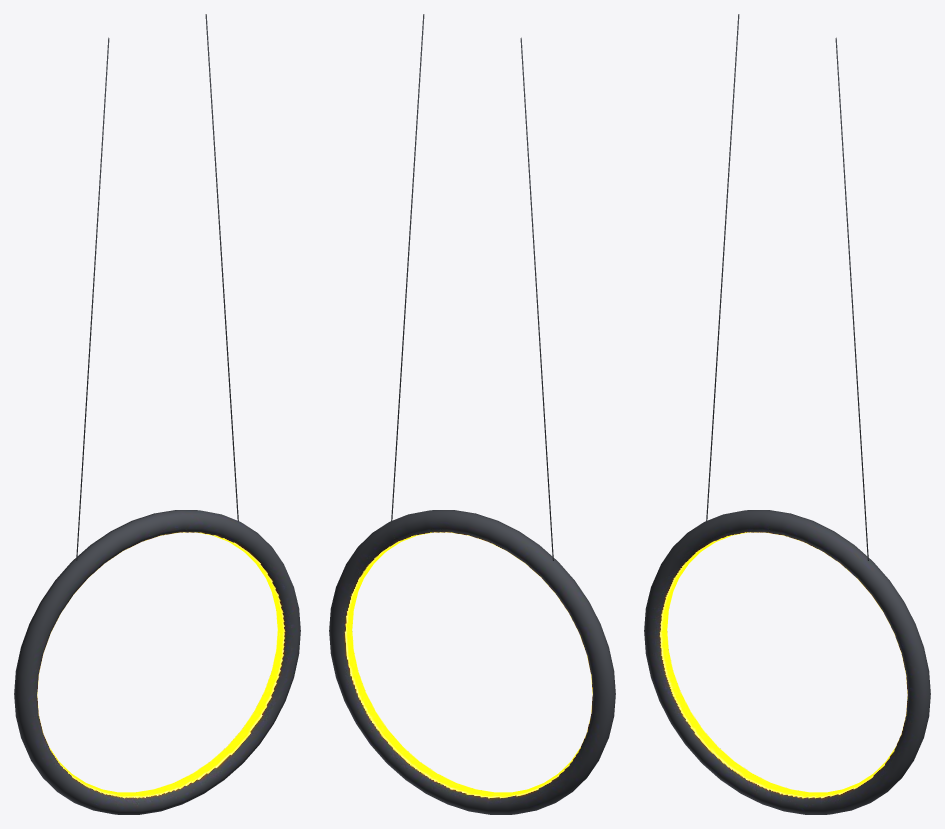
The model's file is air_ring.glb.
3 views of the same model, side by side, from view 1: azimuth 30°, elevation 25°; view 2: azimuth 150°, elevation 25°; view 3: azimuth 330°, elevation 25° (orthographic).
Visible parts, largest first — view 1: air_ring; view 2: air_ring; view 3: air_ring.
Boxes of the visible parts, bbox=[...] form: air_ring: bbox=[14, 14, 300, 814]; air_ring: bbox=[329, 14, 615, 814]; air_ring: bbox=[644, 14, 930, 814].
Size of the model in its own units: 5.6 by 14.8 by 0.3804.
Materials: 1 (1 with a texture image).
